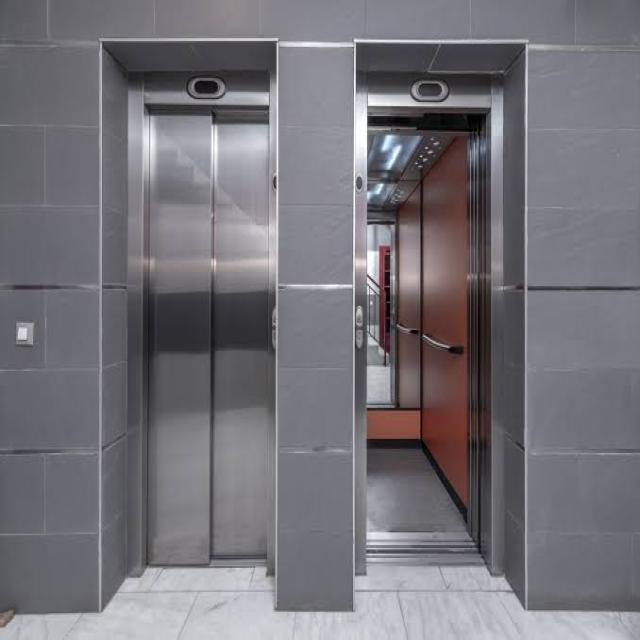elevator: (91, 27, 539, 616)
